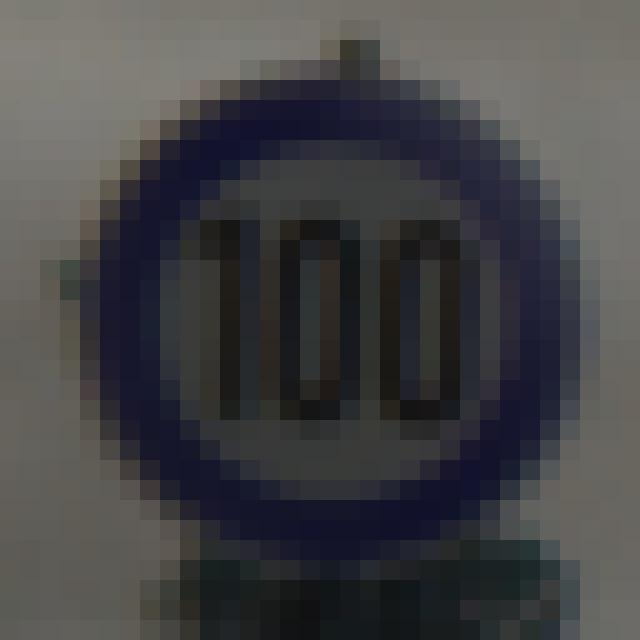SPEED LIMIT 100: (91, 85, 585, 548)
